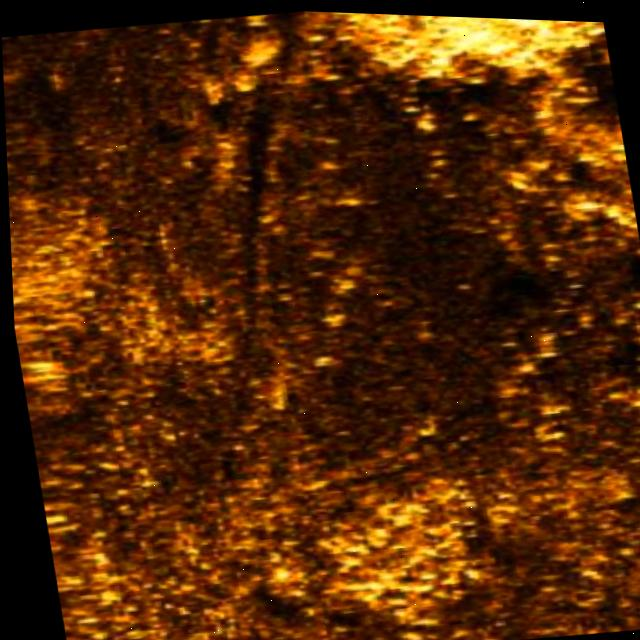bedrock group: (330, 10, 611, 103)
